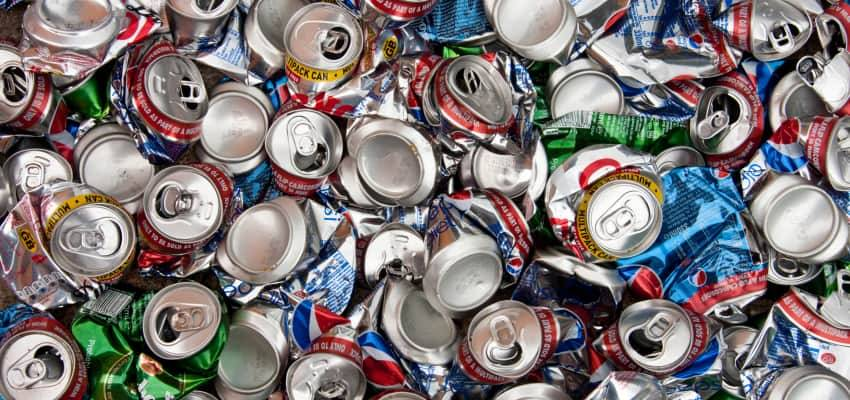metal: (289, 1, 438, 122), (81, 290, 220, 381), (549, 145, 662, 252), (231, 209, 351, 309), (430, 192, 526, 301), (119, 43, 206, 153), (441, 56, 532, 137), (145, 164, 228, 249), (463, 311, 561, 374)
